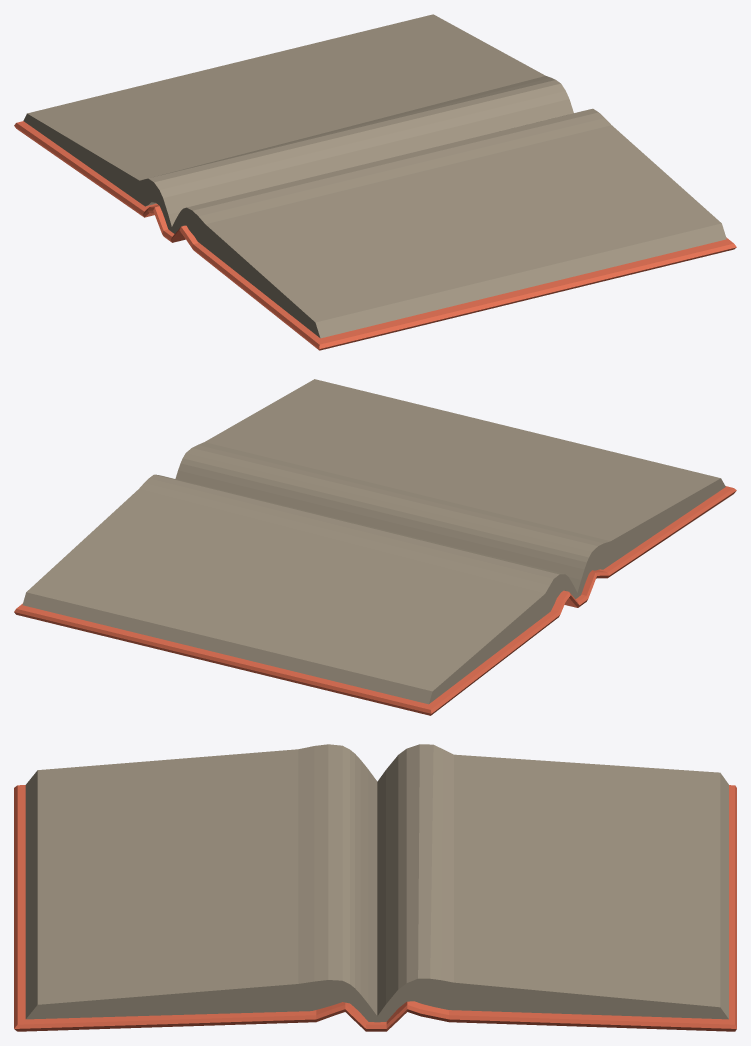
File: Book.glb
3 views of the same model, one above another, from view 1: azimuth 30°, elevation 25°; view 2: azimuth 150°, elevation 25°; view 3: azimuth 270°, elevation 25° (orthographic). The views are drawn at different scales.
Parts seen in each view (by area): view 1: Book Middle Pages, Book Cover; view 2: Book Middle Pages, Book Cover; view 3: Book Middle Pages, Book Cover.
Part boxes in pixels (x1,y1,x2,y2): Book Middle Pages: (23,14,726,338); Book Cover: (14,121,736,350); Book Middle Pages: (22,379,725,704); Book Cover: (14,486,736,715); Book Middle Pages: (25,744,728,1022); Book Cover: (14,785,736,1031).
Bounding box in the file's own units: 25.81 × 2.54 × 32.71.
